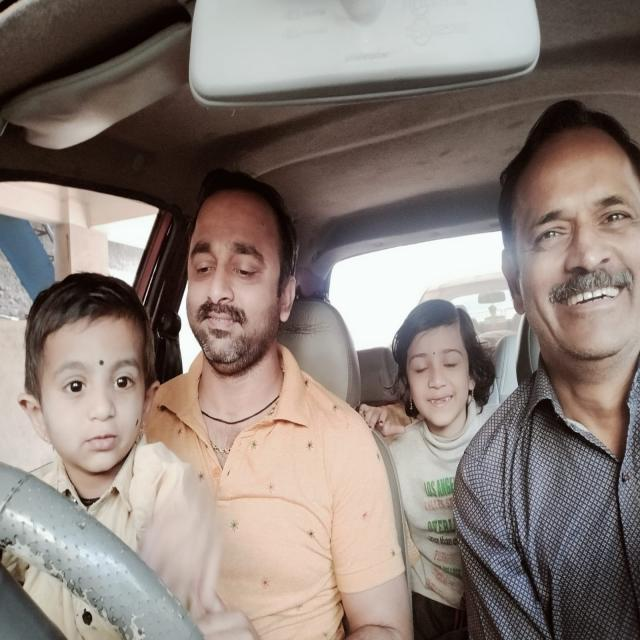child: (24, 265, 157, 499)
person: (497, 94, 640, 396), (178, 167, 310, 418), (392, 286, 489, 438)
